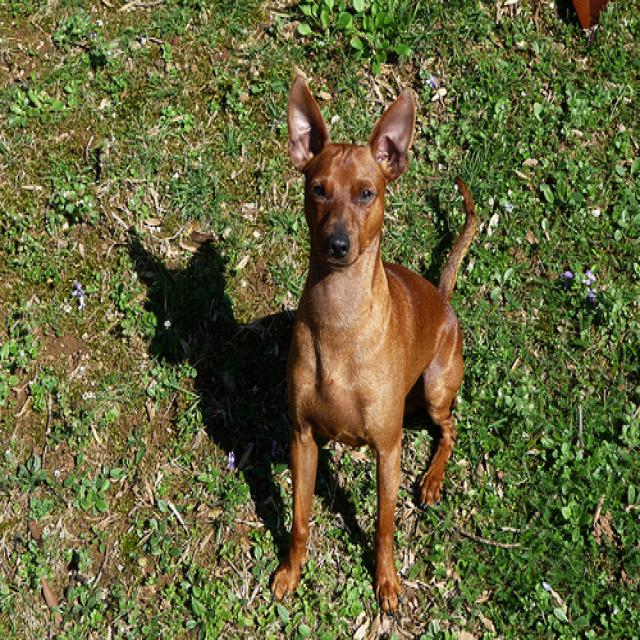dog-miniature_pinscher: (264, 70, 480, 618)
